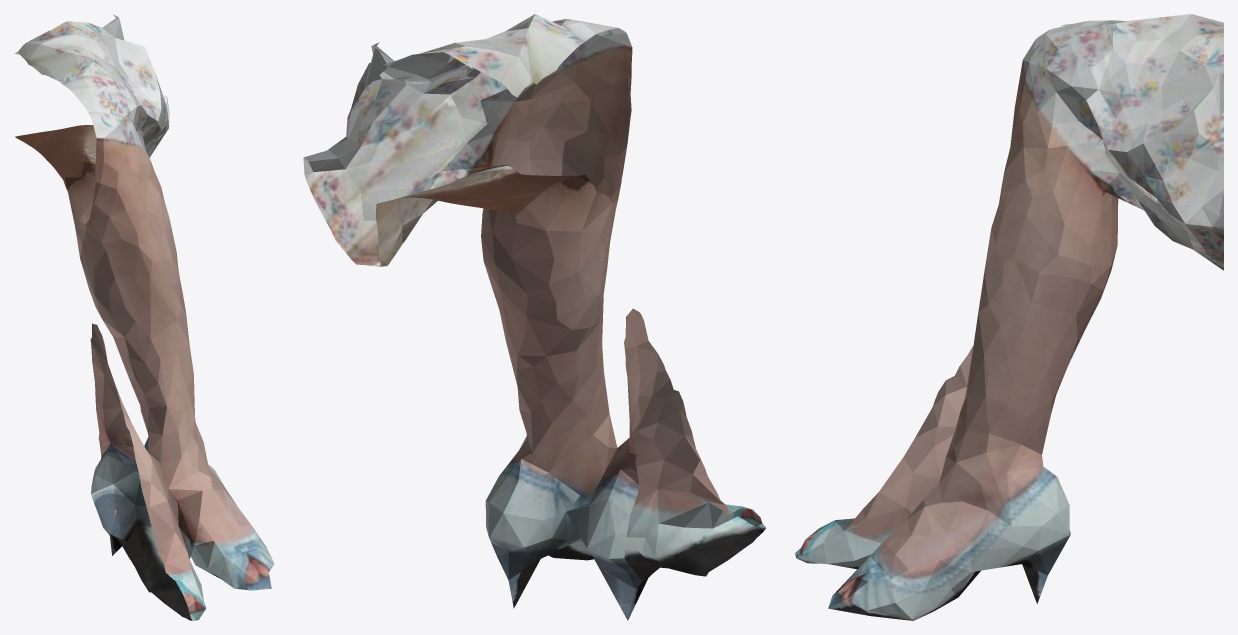
3 renders of one model, left to right at view 1: azimuth 30°, elevation 25°; view 2: azimuth 150°, elevation 25°; view 3: azimuth 270°, elevation 25°, orthographic. The views are drawn at different scales.
Visible parts, largest first — view 1: 091_W_Aya_100K_01; view 2: 091_W_Aya_100K_01; view 3: 091_W_Aya_100K_01.
Boxes of the visible parts, x1,y1,x2,y2 form: 091_W_Aya_100K_01: (15,14,274,620); 091_W_Aya_100K_01: (303,14,765,620); 091_W_Aya_100K_01: (795,14,1223,620).
Bounding box in the file's own units: 189 × 546 × 382.
Materials: 1 (1 with a texture image).
